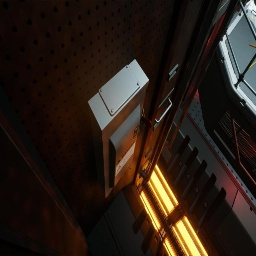EmergencyPhone ,: (108, 180, 119, 195)
SafetySwitchPanel ,: (88, 59, 152, 199)
